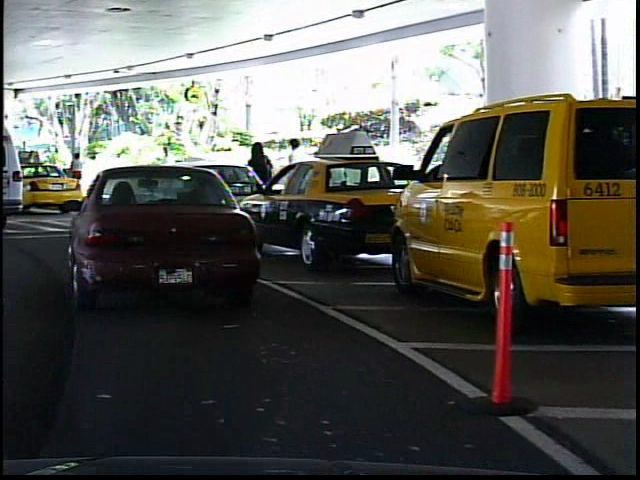person: (244, 136, 279, 219), (280, 133, 310, 211), (154, 141, 178, 204), (64, 150, 87, 195)
